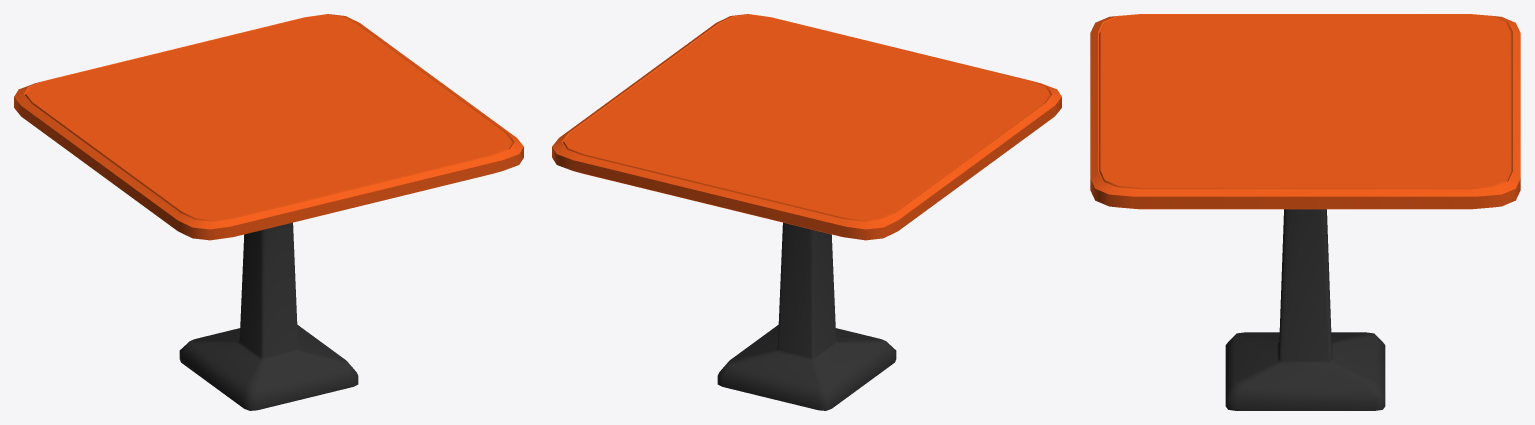
The model's file is aws_BalconyTable_01_visual.DAE.
The picture shows the model from 3 angles, left to right: view 1: azimuth 30°, elevation 25°; view 2: azimuth 150°, elevation 25°; view 3: azimuth 270°, elevation 25°; orthographic projection. The views are drawn at different scales.
Parts seen in each view (by area): view 1: aws_BalconyTable_01_visual; view 2: aws_BalconyTable_01_visual; view 3: aws_BalconyTable_01_visual.
Part boxes in pixels (left/top/right/bottom): aws_BalconyTable_01_visual: left=14, top=14, right=523, bottom=410; aws_BalconyTable_01_visual: left=552, top=14, right=1061, bottom=410; aws_BalconyTable_01_visual: left=1090, top=14, right=1520, bottom=410.
Size of the model in its own units: 55.74 by 55.74 by 40.
Materials: 1 (1 with a texture image).
